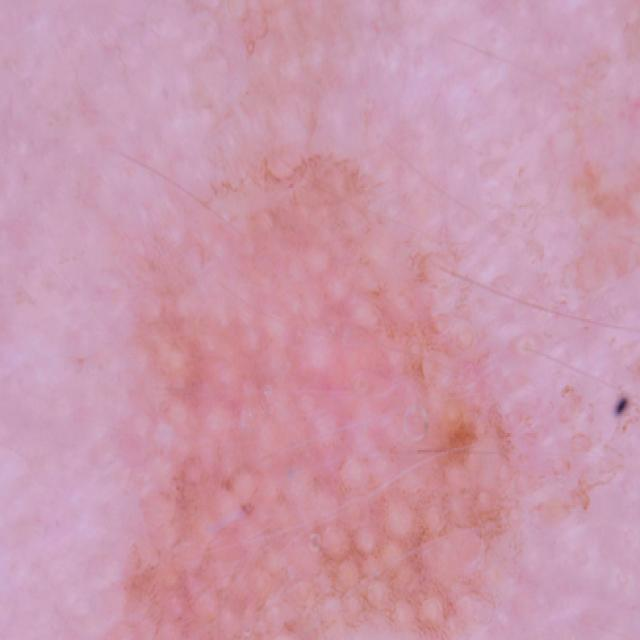Melanoma: (124, 159, 561, 640)
